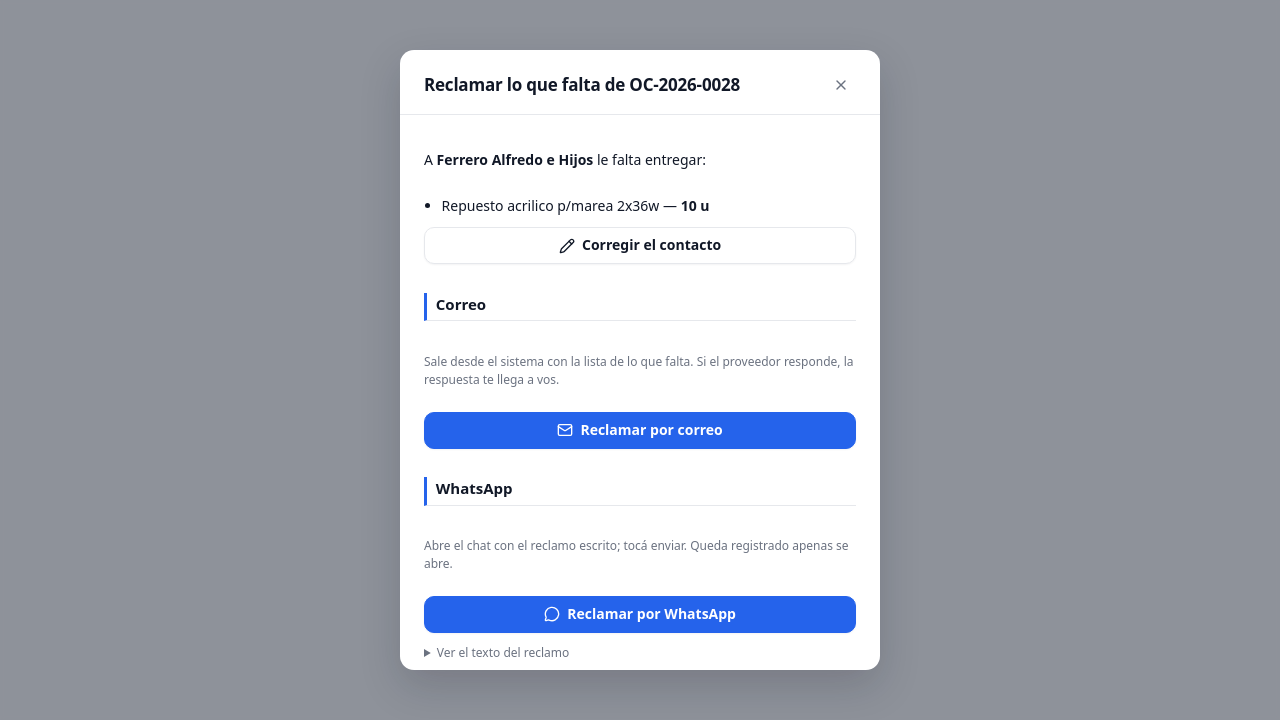
Test: ReclamarFaltante › muestra solo lo que falta y lo reclama por correo
This screenshot has width=1280, height=720.
Expected: the list item reads "Repuesto acrilico p/marea 2x36w — 10 u", x1=442 y1=196 x2=710 y2=215
Click the button "Reclamar por correo": (640, 430) x1=424 y1=412 x2=856 y2=449
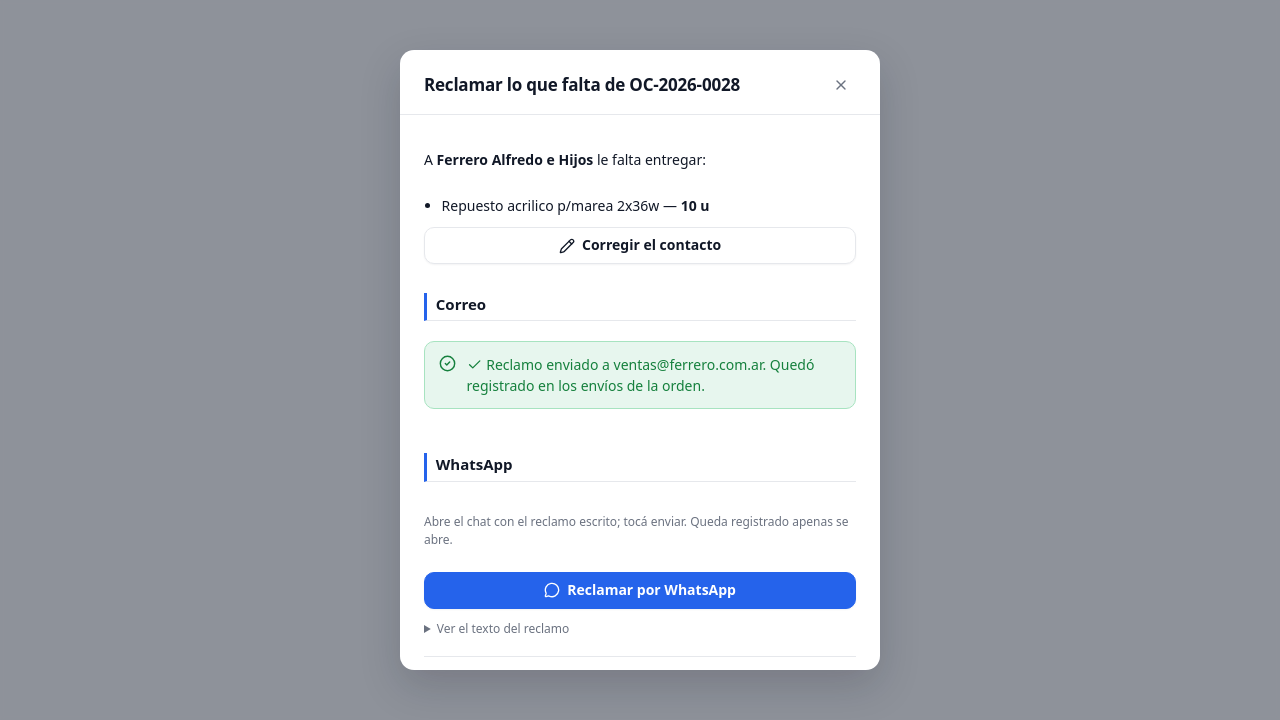
Expected: the text "Reclamo enviado a ventas@ferrero.com.ar" is shown, x1=424 y1=340 x2=856 y2=408
